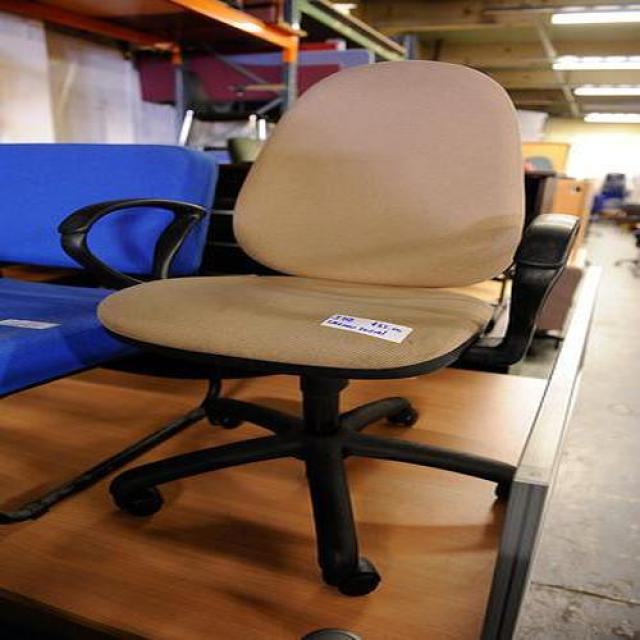swivelchair: (4, 61, 579, 599)
